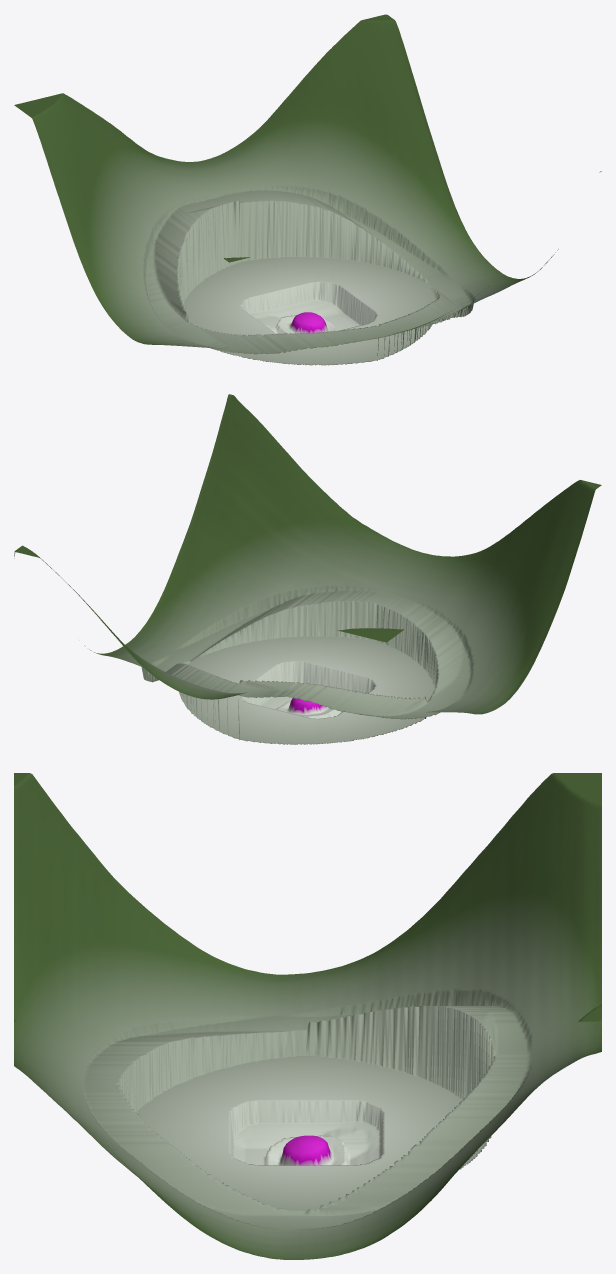
File: test_depth_anything_v2_small_mesh.glb
3 renders of one model, top to bottom at view 1: azimuth 30°, elevation 25°; view 2: azimuth 150°, elevation 25°; view 3: azimuth 270°, elevation 25°, orthographic. The views are drawn at different scales.
Parts seen in each view (by area): view 1: geometry_0; view 2: geometry_0; view 3: geometry_0.
Boxes of the visible parts, box(x1,y1,x2,y2) form: geometry_0: box(14, 14, 601, 365); geometry_0: box(14, 394, 601, 744); geometry_0: box(14, 773, 601, 1259).
Size of the model in its own units: 2 by 1 by 2.
